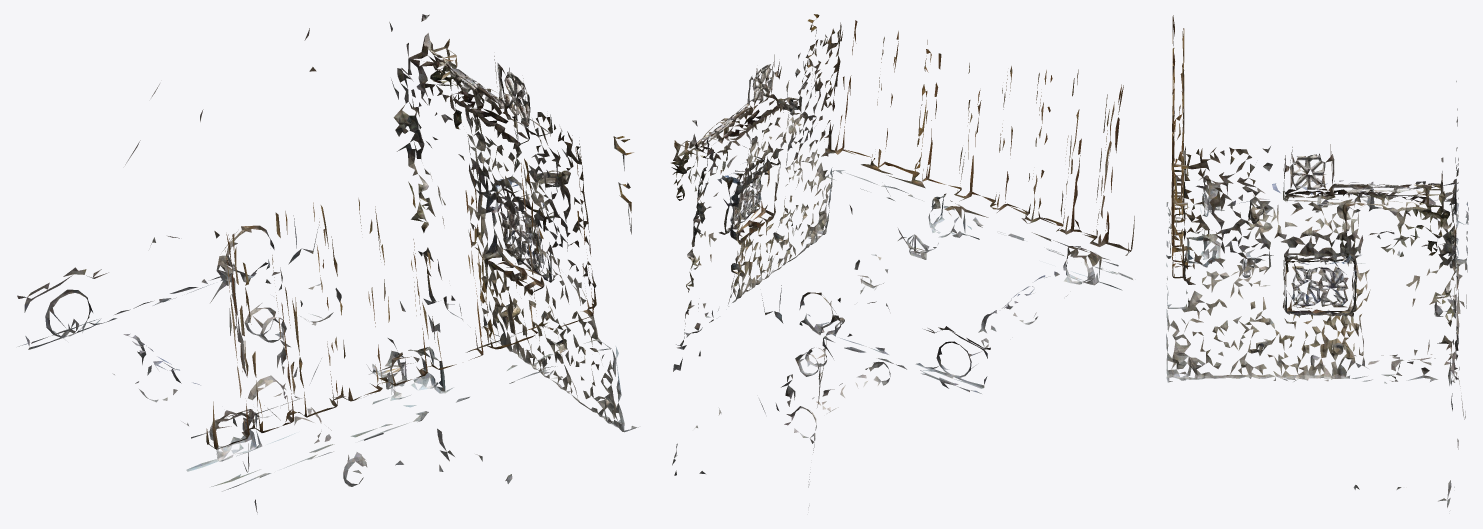
3 views of the same model, side by side, from view 1: azimuth 30°, elevation 25°; view 2: azimuth 150°, elevation 25°; view 3: azimuth 270°, elevation 25° (orthographic). The views are drawn at different scales.
Bounding box in the file's own units: 6.78 × 7.37 × 5.52.
Materials: 1 (1 with a texture image).
